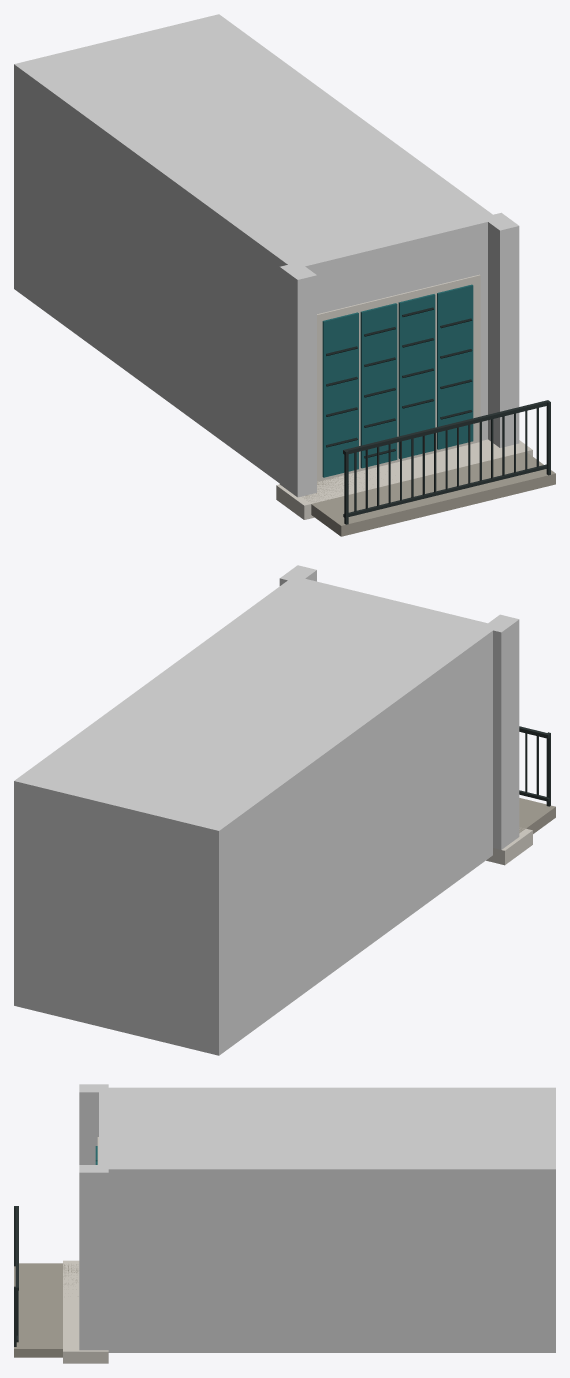
File: lau_ban_cong_32.glb
The picture shows the model from 3 angles, top to bottom: view 1: azimuth 30°, elevation 25°; view 2: azimuth 150°, elevation 25°; view 3: azimuth 270°, elevation 25°; orthographic projection. The views are drawn at different scales.
Visible parts, largest first — view 1: lau_ban_cong_32; view 2: lau_ban_cong_32; view 3: lau_ban_cong_32.
Boxes of the visible parts, x1,y1,x2,y2 form: lau_ban_cong_32: (14,14,555,536); lau_ban_cong_32: (14,565,555,1055); lau_ban_cong_32: (14,1084,555,1363).
Bounding box in the file's own units: 3.3 × 3.2 × 8.3.
